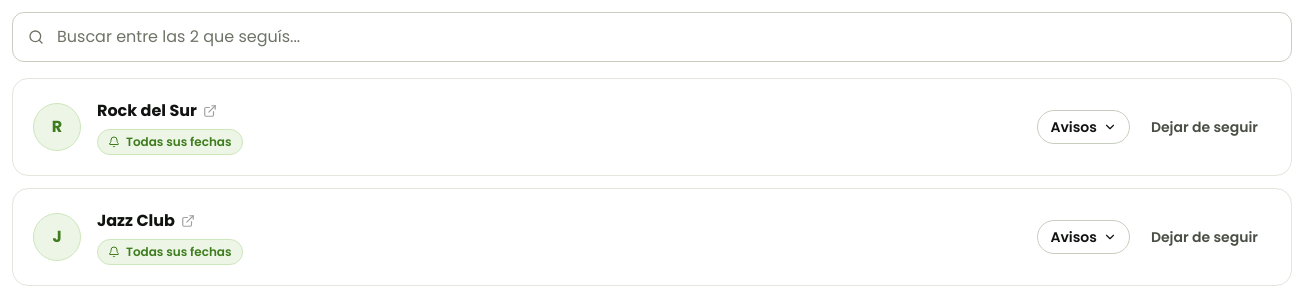
Test: FollowingManager › búsqueda dentro de las seguidas › filtra por título
Type "jazz" into the search field with placeholder "Buscar entre las 2 que seguís..." at (652, 37), box [12,12,1292,62]
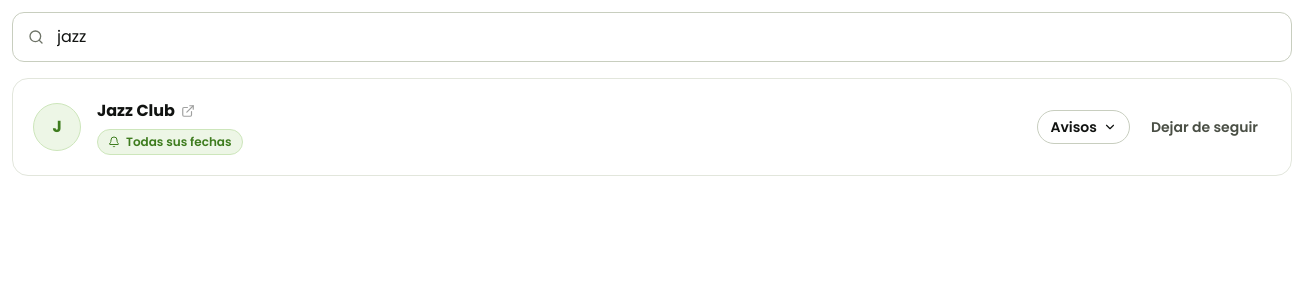
Expected: the text "Jazz Club" is shown, [97,99,175,123]
Expected: the link "Rock del Sur" is gone
